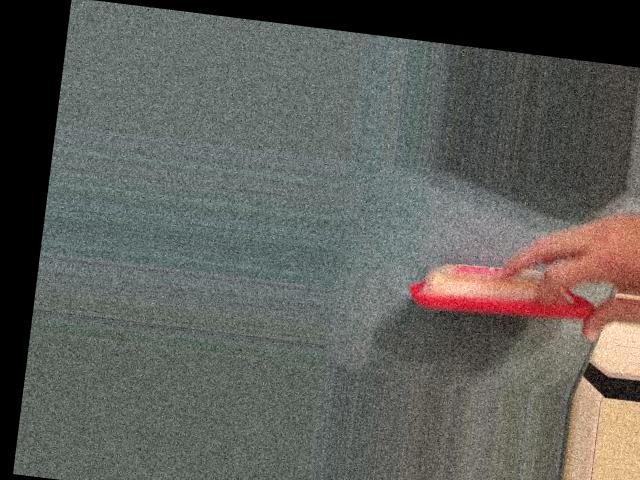cheese: (406, 249, 603, 330)
